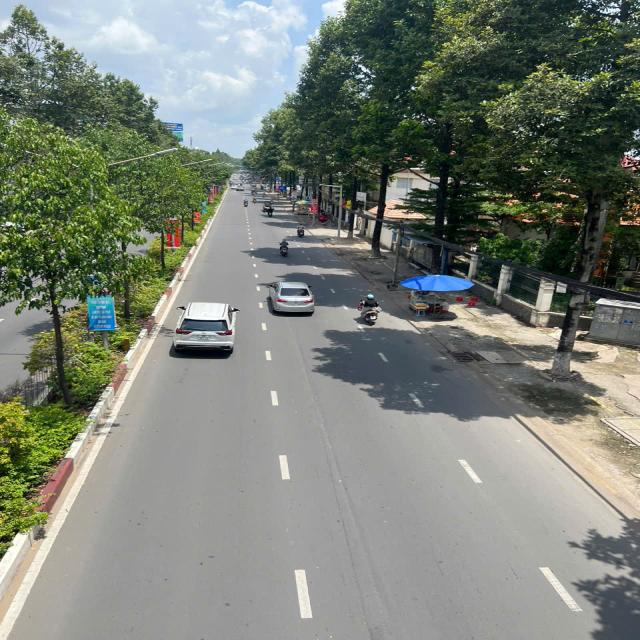car: (171, 299, 243, 356), (266, 279, 320, 317), (236, 184, 246, 192)
motobyte: (358, 292, 382, 326), (295, 220, 309, 239), (278, 237, 290, 257), (265, 205, 276, 219), (241, 197, 250, 210), (252, 195, 258, 204)
